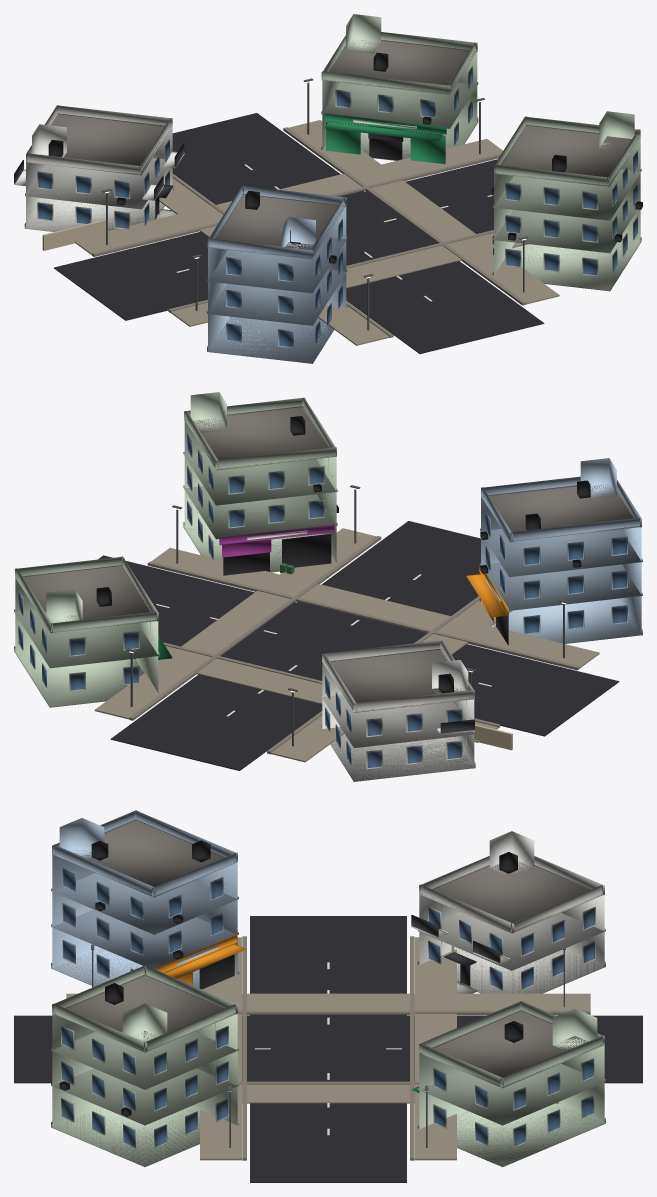
The model's file is dhule_junction_streetscape.glb.
3 renders of one model, top to bottom at view 1: azimuth 30°, elevation 25°; view 2: azimuth 150°, elevation 25°; view 3: azimuth 270°, elevation 25°, orthographic. The views are drawn at different scales.
Visible parts, largest first — view 1: _MeshInstance3D_67, _MeshInstance3D_68, _MeshInstance3D_45, _MeshInstance3D_69, _MeshInstance3D_70, _MeshInstance3D_46, _MeshInstance3D_63, _MeshInstance3D_60, _MeshInstance3D_64, _MeshInstance3D_59, _MeshInstance3D_65, _MeshInstance3D_62 (+3 smaller); view 2: _MeshInstance3D_45, _MeshInstance3D_68, _MeshInstance3D_67, _MeshInstance3D_70, _MeshInstance3D_69, _MeshInstance3D_46, _MeshInstance3D_63, _MeshInstance3D_64, _MeshInstance3D_59, _MeshInstance3D_60, _MeshInstance3D_66, _MeshInstance3D_65 (+3 smaller); view 3: _MeshInstance3D_46, _MeshInstance3D_67, _MeshInstance3D_68, _MeshInstance3D_69, _MeshInstance3D_70, _MeshInstance3D_45, _MeshInstance3D_59, _MeshInstance3D_60, _MeshInstance3D_63, _MeshInstance3D_64, _MeshInstance3D_61, _MeshInstance3D_62 (+2 smaller).
Part boxes in pixels (<box>): _MeshInstance3D_67: <box>491,111,642,291</box>; _MeshInstance3D_68: <box>207,185,347,363</box>; _MeshInstance3D_45: <box>172,113,544,353</box>; _MeshInstance3D_69: <box>321,14,478,164</box>; _MeshInstance3D_70: <box>14,105,184,231</box>; _MeshInstance3D_46: <box>54,159,497,320</box>; _MeshInstance3D_63: <box>288,120,559,304</box>; _MeshInstance3D_60: <box>75,139,502,254</box>; _MeshInstance3D_64: <box>170,233,528,326</box>; _MeshInstance3D_59: <box>159,178,389,345</box>; _MeshInstance3D_65: <box>283,127,526,305</box>; _MeshInstance3D_62: <box>92,153,501,256</box>; _MeshInstance3D_45: <box>110,521,480,770</box>; _MeshInstance3D_68: <box>466,458,642,645</box>; _MeshInstance3D_67: <box>183,392,338,575</box>; _MeshInstance3D_70: <box>321,640,475,781</box>; _MeshInstance3D_69: <box>14,556,172,707</box>; _MeshInstance3D_46: <box>98,555,619,736</box>; _MeshInstance3D_63: <box>94,528,376,719</box>; _MeshInstance3D_64: <box>151,547,599,667</box>; _MeshInstance3D_59: <box>271,600,512,762</box>; _MeshInstance3D_60: <box>134,646,497,742</box>; _MeshInstance3D_66: <box>147,561,579,670</box>; _MeshInstance3D_65: <box>129,536,381,720</box>; _MeshInstance3D_46: <box>250,916,406,1182</box>; _MeshInstance3D_67: <box>51,965,239,1166</box>; _MeshInstance3D_68: <box>51,810,245,989</box>; _MeshInstance3D_69: <box>412,1001,605,1167</box>; _MeshInstance3D_70: <box>411,831,605,993</box>; _MeshInstance3D_45: <box>14,1015,642,1083</box>; _MeshInstance3D_59: <box>66,993,590,1010</box>; _MeshInstance3D_60: <box>415,937,456,1160</box>; _MeshInstance3D_63: <box>237,1084,558,1103</box>; _MeshInstance3D_64: <box>200,937,241,1160</box>; _MeshInstance3D_61: <box>238,1010,590,1015</box>; _MeshInstance3D_62: <box>410,936,414,1160</box>.
Size of the model in its own units: 48 by 11.9 by 48.
